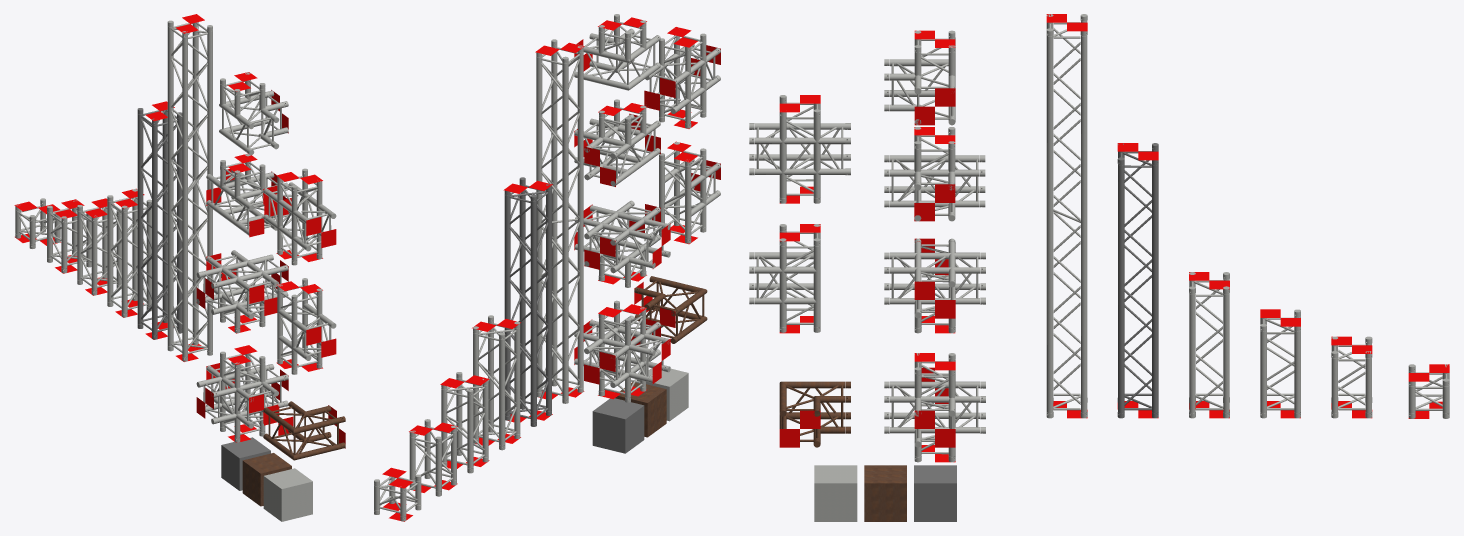
File: PROLYTE_X30V-56d0d50f.glb
3 renders of one model, left to right at view 1: azimuth 30°, elevation 25°; view 2: azimuth 150°, elevation 25°; view 3: azimuth 270°, elevation 25°, orthographic. The views are drawn at different scales.
Visible parts, largest first — view 1: Geom3D_ (×22), Geom3D_Groupe#25, Geom3D_PEINTURE ALU, Geom3D (×4), Geom3D_Groupe#13 (×2), Geom3D_Groupe#38 (×2), Geom3D_Groupe#30, Geom3D_PEINTURE CUSTOM, Geom3D_PEINTURE NOIRE, Geom3D_Groupe#34, Geom3D_Groupe#88, Geom3D_Groupe#92 (+5 smaller); view 2: Geom3D_ (×23), Geom3D_Groupe#25, Geom3D_PEINTURE NOIRE, Geom3D (×4), Geom3D_Groupe#38 (×2), Geom3D_Groupe#30, Geom3D_Groupe#13 (×2), Geom3D_PEINTURE ALU, Geom3D_PEINTURE CUSTOM, Geom3D_Groupe#34, Geom3D_Groupe#88, Geom3D_Groupe#37 (+5 smaller); view 3: Geom3D_ (×11), Geom3D_Groupe#25, Geom3D_PEINTURE ALU, Geom3D_PEINTURE CUSTOM, Geom3D_PEINTURE NOIRE, Geom3D (×3), Geom3D_Groupe#38 (×2), Geom3D_Groupe#30, Geom3D_Groupe#13 (×2), Geom3D_Groupe#34, Geom3D_Groupe#88.
Boxes of the visible parts, x1,y1,x2,y2 form: Geom3D_ (×22): (77,22,331,438); Geom3D_Groupe#25: (171,22,207,353); Geom3D_PEINTURE ALU: (263,468,312,521); Geom3D (×4): (249,202,336,357); Geom3D_Groupe#13 (×2): (222,95,338,454); Geom3D_Groupe#38 (×2): (211,173,331,367); Geom3D_Groupe#30: (141,110,177,331); Geom3D_PEINTURE CUSTOM: (242,453,291,506); Geom3D_PEINTURE NOIRE: (221,437,270,490); Geom3D_Groupe#34: (111,197,147,309); Geom3D_Groupe#88: (206,355,279,427); Geom3D_Groupe#92: (203,353,281,434); Geom3D_ (×23): (467,35,718,468); Geom3D_Groupe#25: (541,47,579,395); Geom3D_PEINTURE NOIRE: (592,398,644,453); Geom3D (×4): (584,78,675,384); Geom3D_Groupe#38 (×2): (584,120,715,235); Geom3D_Groupe#30: (509,185,548,418); Geom3D_Groupe#13 (×2): (584,34,704,338); Geom3D_PEINTURE ALU: (637,368,688,421); Geom3D_PEINTURE CUSTOM: (615,382,666,437); Geom3D_Groupe#34: (478,323,516,442); Geom3D_Groupe#88: (584,317,660,391); Geom3D_Groupe#37: (446,385,484,463); Geom3D_ (×11): (755,35,1229,456); Geom3D_Groupe#25: (1049,22,1080,410); Geom3D_PEINTURE ALU: (814,465,857,521); Geom3D_PEINTURE CUSTOM: (864,465,906,521); Geom3D_PEINTURE NOIRE: (914,465,956,521); Geom3D (×3): (914,88,955,447); Geom3D_Groupe#38 (×2): (756,159,978,324); Geom3D_Groupe#30: (1120,151,1151,410); Geom3D_Groupe#13 (×2): (782,63,953,441); Geom3D_Groupe#34: (1191,280,1223,410); Geom3D_Groupe#88: (895,364,974,450).
Bounding box in the file's own units: 0.7136 × 3.8 × 4.92.
Materials: 4 (2 with a texture image).
